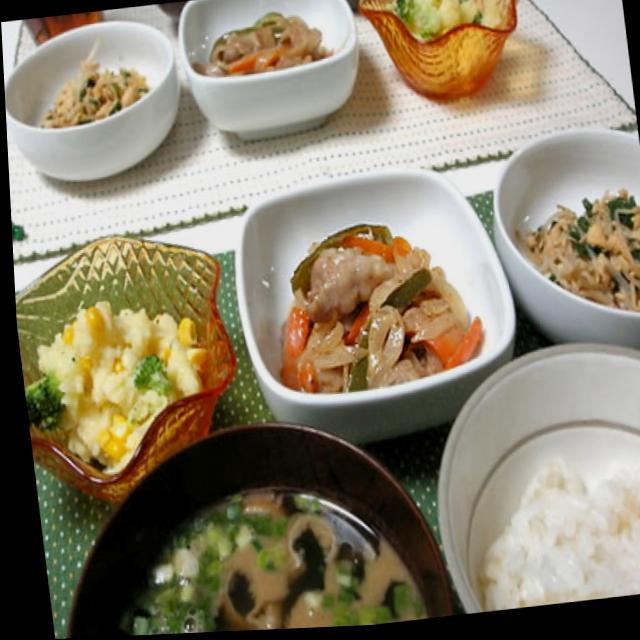米饭主食: (406, 334, 640, 620)
